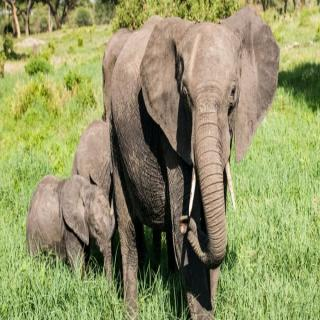Elephant: (108, 4, 281, 320), (24, 170, 116, 290)
